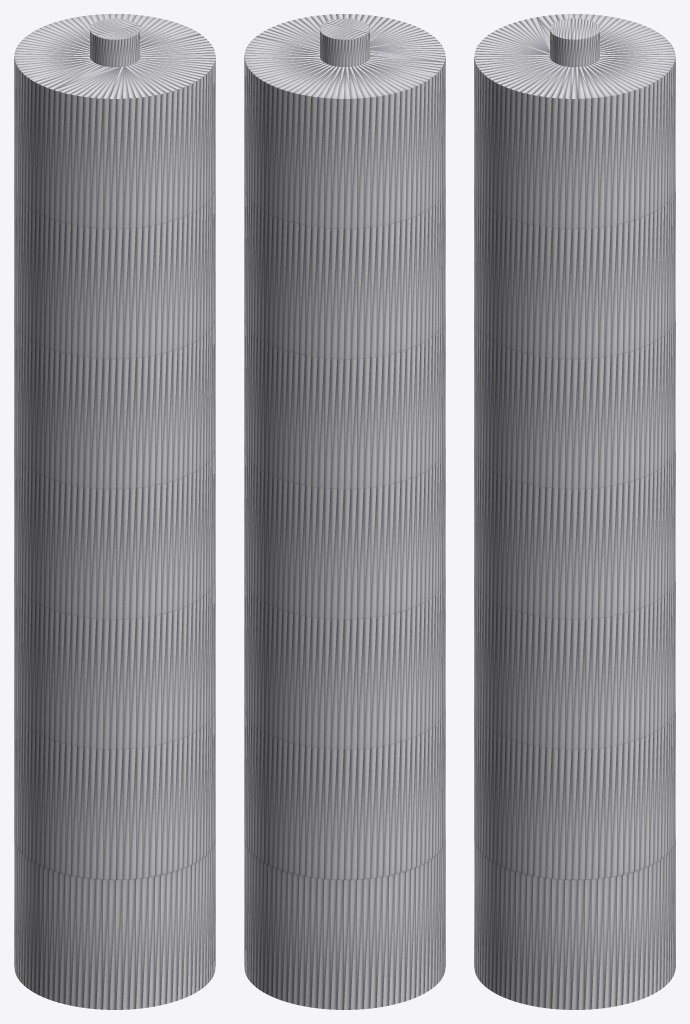
File: colonnette_bas.dae
3 views of the same model, side by side, from view 1: azimuth 30°, elevation 25°; view 2: azimuth 150°, elevation 25°; view 3: azimuth 270°, elevation 25° (orthographic).
Parts seen in each view (by area): view 1: Colonette; view 2: Colonette; view 3: Colonette.
Boxes of the visible parts, <box> form: Colonette: <box>14,14,215,1009</box>; Colonette: <box>244,14,445,1009</box>; Colonette: <box>474,14,675,1009</box>.
Size of the model in its own units: 0.02 by 0.02 by 0.106.
1 material, 1 textured.
